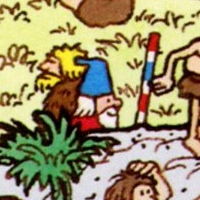wb: (75, 55, 123, 121)
